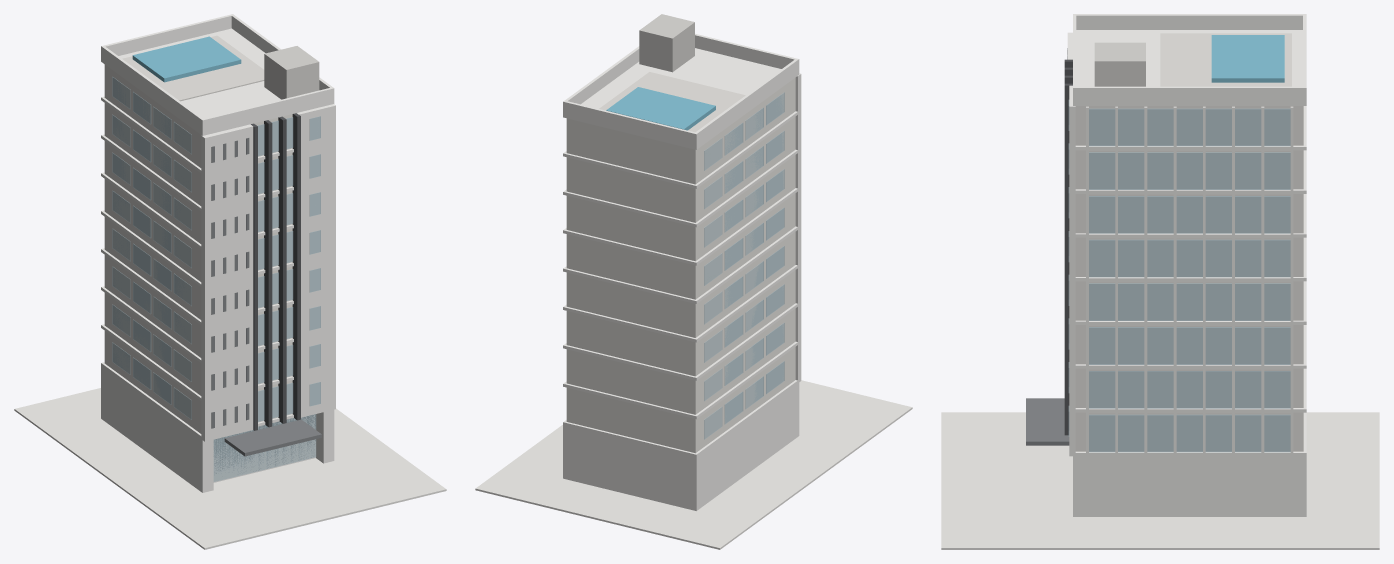
The model's file is hotel-paradise-inn.glb.
3 renders of one model, left to right at view 1: azimuth 30°, elevation 25°; view 2: azimuth 150°, elevation 25°; view 3: azimuth 270°, elevation 25°, orthographic. The views are drawn at different scales.
Visible parts, largest first — view 1: site-site, roof-white, floor-0-white, floor-8-white, floor-8-offwhite, floor-2-white, floor-7-white, floor-1-white, floor-3-white, floor-4-white, floor-5-white, floor-6-white (+29 smaller); view 2: site-site, floor-0-white, roof-white, floor-8-offwhite, floor-2-offwhite, floor-7-offwhite, floor-1-offwhite, floor-3-offwhite, floor-5-offwhite, floor-4-offwhite, floor-6-offwhite, roof-grey (+18 smaller); view 3: site-site, floor-0-white, roof-white, floor-8-offwhite, floor-5-offwhite, floor-2-offwhite, floor-6-offwhite, floor-4-offwhite, floor-1-offwhite, floor-7-offwhite, floor-3-offwhite, floor-1-glass (+19 smaller).
Boxes of the visible parts, x1=… form: site-site: x1=14, y1=388, x2=446, y2=549; roof-white: x1=101, y1=14, x2=334, y2=135; floor-0-white: x1=101, y1=366, x2=334, y2=492; floor-8-white: x1=101, y1=96, x2=335, y2=175; floor-8-offwhite: x1=104, y1=64, x2=292, y2=167; floor-2-white: x1=101, y1=324, x2=335, y2=403; floor-7-white: x1=101, y1=134, x2=335, y2=213; floor-1-white: x1=101, y1=362, x2=335, y2=441; floor-3-white: x1=101, y1=286, x2=335, y2=365; floor-4-white: x1=101, y1=248, x2=335, y2=327; floor-5-white: x1=101, y1=210, x2=335, y2=289; floor-6-white: x1=101, y1=172, x2=335, y2=251; site-site: x1=475, y1=380, x2=912, y2=549; floor-0-white: x1=563, y1=383, x2=799, y2=510; roof-white: x1=563, y1=33, x2=799, y2=149; floor-8-offwhite: x1=566, y1=77, x2=795, y2=184; floor-2-offwhite: x1=566, y1=308, x2=795, y2=414; floor-7-offwhite: x1=566, y1=116, x2=795, y2=222; floor-1-offwhite: x1=566, y1=347, x2=795, y2=453; floor-3-offwhite: x1=566, y1=270, x2=795, y2=376; floor-5-offwhite: x1=566, y1=193, x2=795, y2=299; floor-4-offwhite: x1=566, y1=232, x2=795, y2=337; floor-6-offwhite: x1=566, y1=155, x2=795, y2=261; roof-grey: x1=639, y1=14, x2=694, y2=72; site-site: x1=941, y1=412, x2=1379, y2=549; floor-0-white: x1=1073, y1=456, x2=1306, y2=516; roof-white: x1=1073, y1=14, x2=1306, y2=105; floor-8-offwhite: x1=1075, y1=106, x2=1303, y2=145; floor-5-offwhite: x1=1075, y1=237, x2=1303, y2=276; floor-2-offwhite: x1=1075, y1=368, x2=1303, y2=407; floor-6-offwhite: x1=1075, y1=194, x2=1303, y2=233; floor-4-offwhite: x1=1075, y1=281, x2=1303, y2=320; floor-1-offwhite: x1=1075, y1=412, x2=1303, y2=451; floor-7-offwhite: x1=1075, y1=150, x2=1303, y2=189; floor-3-offwhite: x1=1075, y1=325, x2=1303, y2=364; floor-1-glass: x1=1068, y1=406, x2=1290, y2=452.
Bounding box in the file's own units: 22 × 34.35 × 30.
